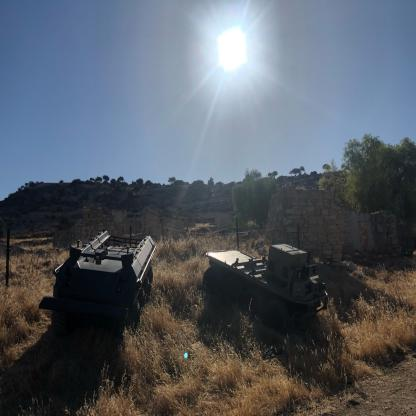UGV: (38, 228, 158, 338), (202, 242, 330, 332)
